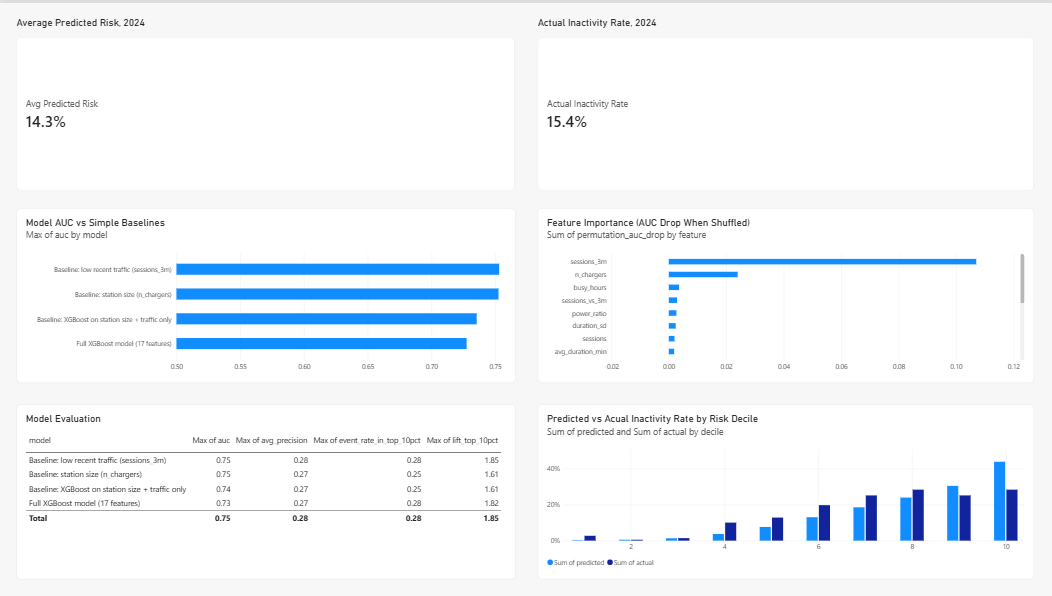

The dashboard page shown, as its layout file describes it:
{"tool":"powerbi","page":{"name":"Risk_Model","canvas":[1920,1080],"ordinal":1},"visuals":[{"type":"cardVisual","title":"Average Predicted Risk, 2024","fields":{"Data":["risk_scores_2024.Avg Predicted Risk"]},"box":[31.8,25,906.8,315.9],"z":0},{"type":"cardVisual","title":"Actual Inactivity Rate, 2024","fields":{"Data":["risk_scores_2024.Actual Inactivity Rate"]},"box":[979.5,25,902.3,315.9],"z":1},{"type":"clusteredBarChart","title":"Model AUC vs Simple Baselines","fields":{"Category":["model_evaluation.model"],"Y":["Max(model_evaluation.auc)"]},"box":[31.8,372.7,906.8,318.2],"z":2},{"type":"tableEx","title":"Model Evaluation","fields":{"Values":["model_evaluation.model","Max(model_evaluation.auc)","Max(model_evaluation.avg_precision)","Max(model_evaluation.event_rate_in_top_10pct)","Max(model_evaluation.lift_top_10pct)"]},"box":[31.8,729.5,906.8,318.2],"z":3},{"type":"clusteredColumnChart","title":"Predicted vs Acual Inactivity Rate by Risk Decile","fields":{"Category":["risk_calibration_by_decile.decile"],"Y":["Sum(risk_calibration_by_decile.predicted)","Sum(risk_calibration_by_decile.actual)"]},"box":[979.5,729.5,902.3,318.2],"z":4},{"type":"clusteredBarChart","title":"Feature Importance (AUC Drop When Shuffled)","fields":{"Category":["feature_importance.feature"],"Y":["Sum(feature_importance.permutation_auc_drop)"]},"box":[979.5,372.7,902.3,318.2],"z":5}]}

Visuals, with their boxes in screenshot pixels (x1, y1, x2, y2), scaled from the page's 1920x1080 canvas onto the 1052x596 screenshot:
"Average Predicted Risk, 2024" cardVisual: x1=17 y1=14 x2=514 y2=188
"Actual Inactivity Rate, 2024" cardVisual: x1=537 y1=14 x2=1031 y2=188
"Model AUC vs Simple Baselines" clusteredBarChart: x1=17 y1=206 x2=514 y2=381
"Model Evaluation" tableEx: x1=17 y1=403 x2=514 y2=578
"Predicted vs Acual Inactivity Rate by Risk Decile" clusteredColumnChart: x1=537 y1=403 x2=1031 y2=578
"Feature Importance (AUC Drop When Shuffled)" clusteredBarChart: x1=537 y1=206 x2=1031 y2=381
